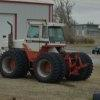Tractor: (8, 16, 84, 82)
